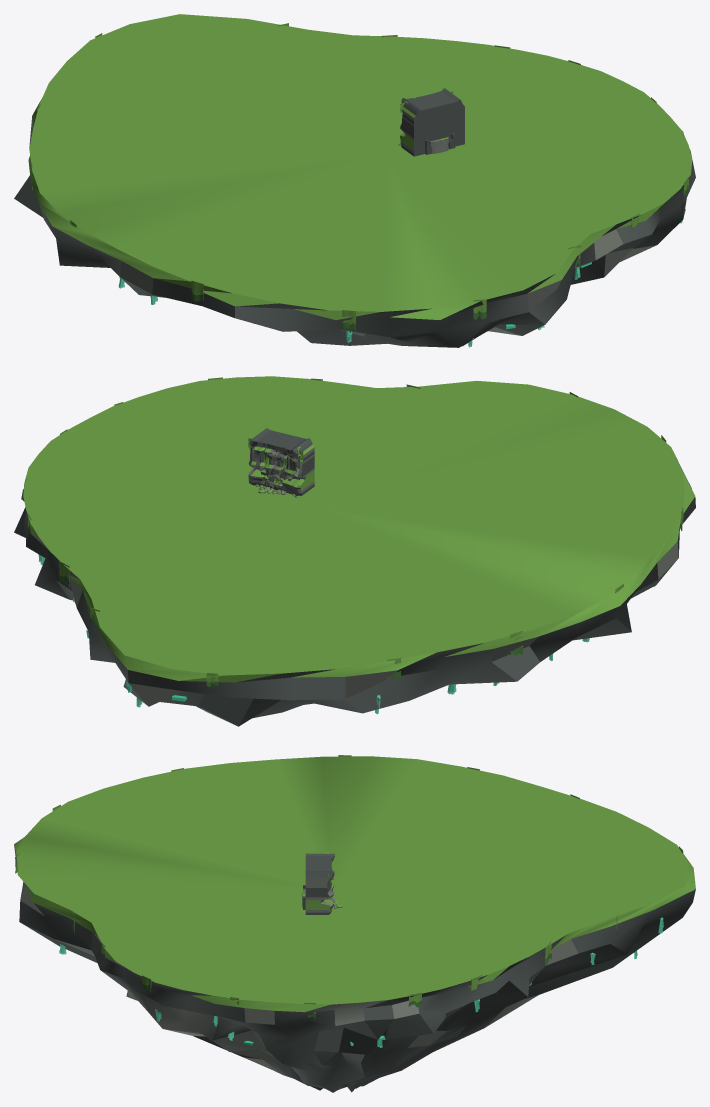
Rendered from JadeGrove_Cliffs.fbx.
The picture shows the model from 3 angles, top to bottom: view 1: azimuth 30°, elevation 25°; view 2: azimuth 150°, elevation 25°; view 3: azimuth 270°, elevation 25°; orthographic projection. The views are drawn at different scales.
Parts seen in each view (by area): view 1: JG_Isle_Underside__Moss, JG_Isle_Underside__RockDark, JG_Cliff_Grotto_G1__RockDark, JG_Isle_Underside__Rock, JG_Isle_Curtains__Moss; view 2: JG_Isle_Underside__Moss, JG_Isle_Underside__RockDark, JG_Isle_Underside__Rock, JG_Cliff_Grotto_G1__RockDark, JG_Cliff_Grotto_G1__Rock, JG_Cliff_Grotto_G1__Moss, JG_Isle_Curtains__Moss; view 3: JG_Isle_Underside__Moss, JG_Isle_Underside__RockDark, JG_Isle_Underside__Rock, JG_Cliff_Grotto_G1__RockDark, JG_Isle_Curtains__Moss.
Part boxes in pixels (x1=…): JG_Isle_Underside__Moss: x1=28, y1=14, x2=692, y2=320; JG_Isle_Underside__RockDark: x1=14, y1=116, x2=695, y2=347; JG_Cliff_Grotto_G1__RockDark: x1=399, y1=88, x2=464, y2=156; JG_Isle_Underside__Rock: x1=120, y1=198, x2=686, y2=336; JG_Isle_Curtains__Moss: x1=30, y1=23, x2=688, y2=325; JG_Isle_Underside__Moss: x1=23, y1=376, x2=695, y2=682; JG_Isle_Underside__RockDark: x1=14, y1=453, x2=695, y2=726; JG_Isle_Underside__Rock: x1=23, y1=489, x2=678, y2=724; JG_Cliff_Grotto_G1__RockDark: x1=248, y1=428, x2=314, y2=497; JG_Cliff_Grotto_G1__Rock: x1=248, y1=440, x2=314, y2=497; JG_Cliff_Grotto_G1__Moss: x1=248, y1=438, x2=314, y2=497; JG_Isle_Curtains__Moss: x1=24, y1=377, x2=683, y2=683; JG_Isle_Underside__Moss: x1=14, y1=756, x2=695, y2=1012; JG_Isle_Underside__RockDark: x1=14, y1=845, x2=695, y2=1092; JG_Isle_Underside__Rock: x1=20, y1=885, x2=578, y2=1090; JG_Cliff_Grotto_G1__RockDark: x1=305, y1=853, x2=334, y2=914; JG_Isle_Curtains__Moss: x1=15, y1=755, x2=683, y2=1013.
Bounding box in the file's own units: 386 × 150 × 436.
